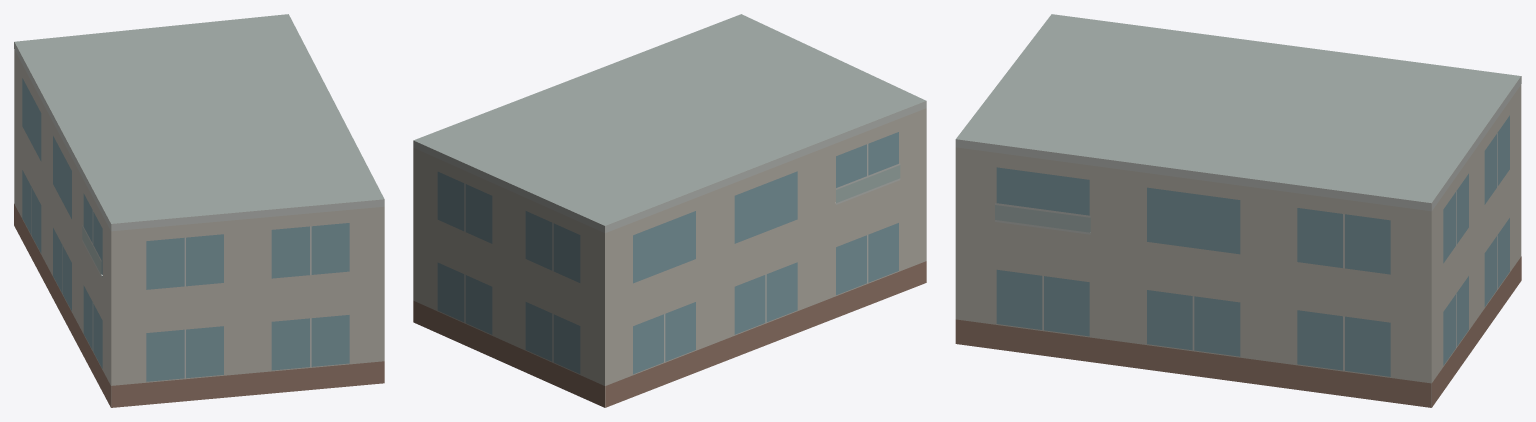
File: survey-upis-32856506.glb
The picture shows the model from 3 angles, left to right: view 1: azimuth 30°, elevation 25°; view 2: azimuth 150°, elevation 25°; view 3: azimuth 270°, elevation 25°; orthographic projection. The views are drawn at different scales.
Visible parts, largest first — view 1: survey-upis-32856506.tmp; view 2: survey-upis-32856506.tmp; view 3: survey-upis-32856506.tmp.
Boxes of the visible parts, left/top/right/bottom form: survey-upis-32856506.tmp: left=14, top=14, right=384, bottom=407; survey-upis-32856506.tmp: left=413, top=14, right=926, bottom=407; survey-upis-32856506.tmp: left=955, top=14, right=1521, bottom=407.
Bounding box in the file's own units: 12.1 × 6.1 × 15.29.
